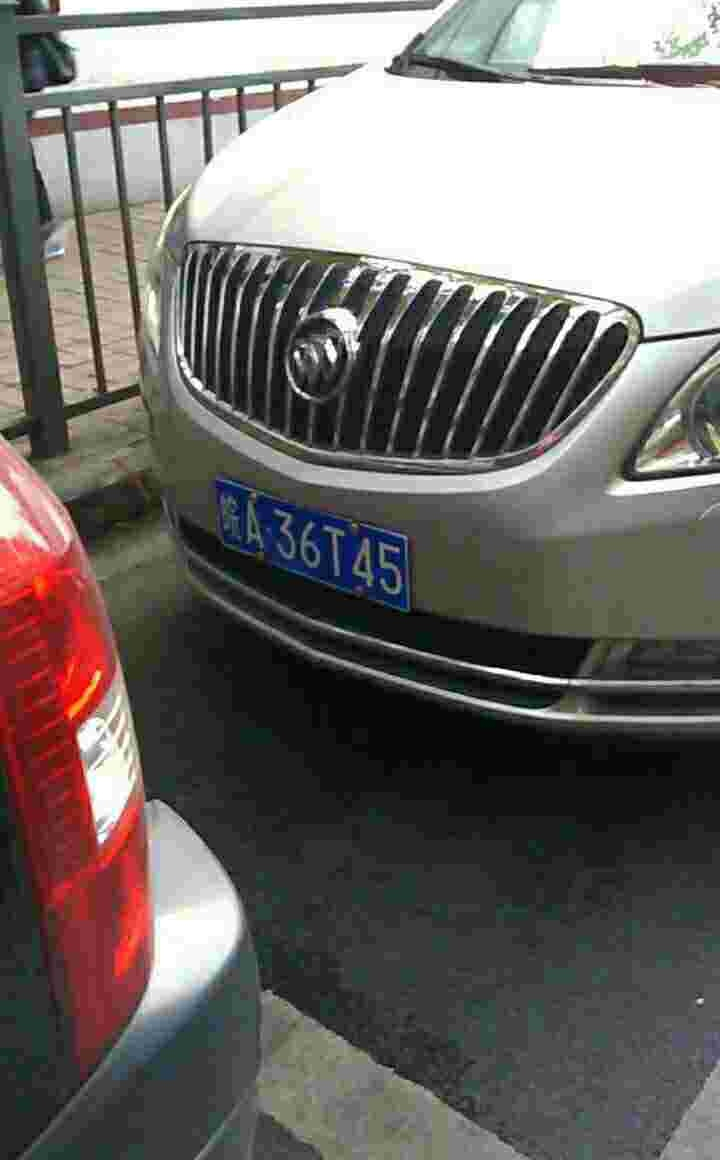license_plate: (205, 471, 410, 604)
